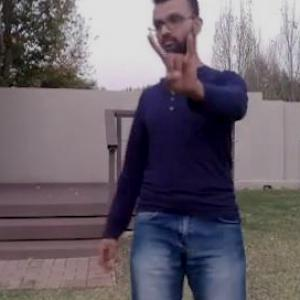takeoff-hand: (140, 28, 206, 100)
